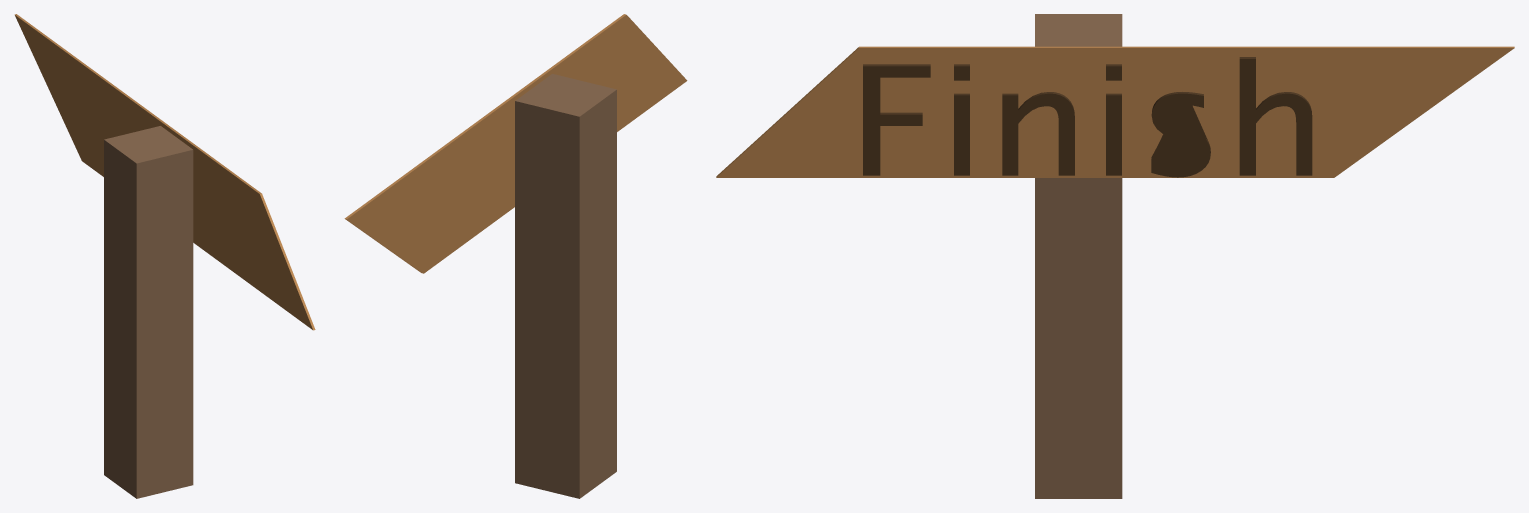
Rendered from Letrerio_Finish.fbx.
The picture shows the model from 3 angles, left to right: view 1: azimuth 30°, elevation 25°; view 2: azimuth 150°, elevation 25°; view 3: azimuth 270°, elevation 25°; orthographic projection. The views are drawn at different scales.
Parts seen in each view (by area): view 1: pCube3, pCube2; view 2: pCube3, pCube2; view 3: pCube2, pCube3, typeMesh2.
Part boxes in pixels (x1,y1,x2,y2): pCube3: (104, 126, 193, 498); pCube2: (14, 14, 315, 330); pCube3: (515, 74, 616, 498); pCube2: (344, 14, 687, 273); pCube2: (716, 46, 1514, 177); pCube3: (1035, 14, 1122, 498); typeMesh2: (863, 57, 1312, 177).
Size of the model in its own units: 1.35 by 6.86 by 10.96.
